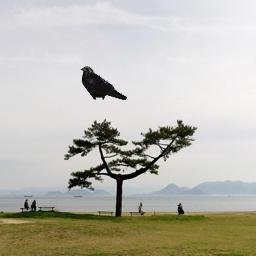Crow: (80, 66, 127, 100)
